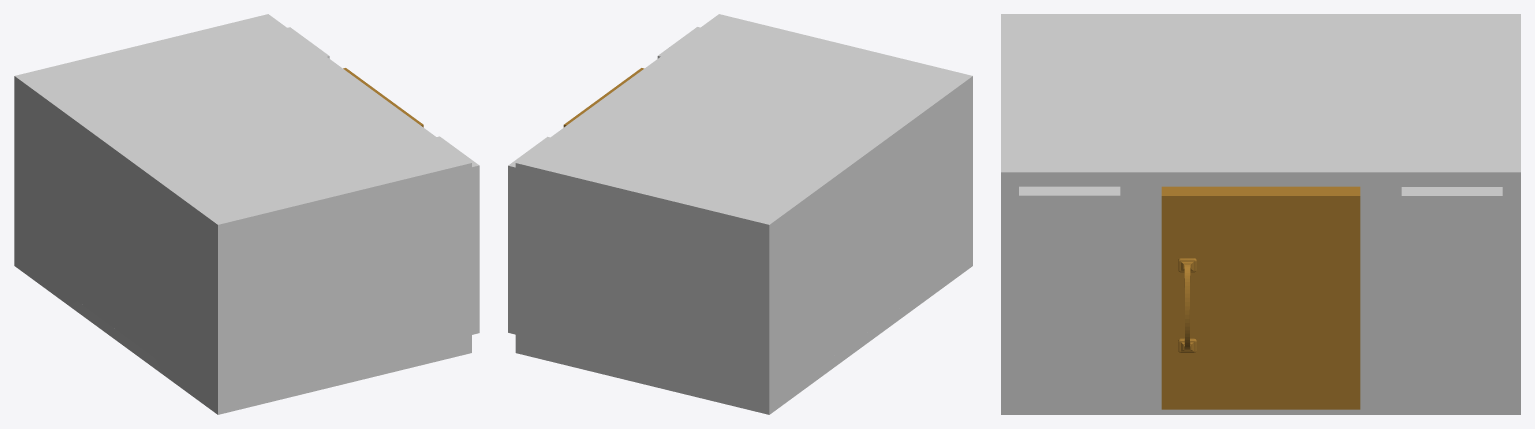
File: KitCab.fbx
The picture shows the model from 3 angles, left to right: view 1: azimuth 30°, elevation 25°; view 2: azimuth 150°, elevation 25°; view 3: azimuth 270°, elevation 25°; orthographic projection. The views are drawn at different scales.
Visible parts, largest first — view 1: Cube.007; view 2: Cube.007; view 3: Cube.007, Cube.017, Cube.030.
Boxes of the visible parts, left/top/right/bottom form: Cube.007: left=14, top=14, right=479, bottom=414; Cube.007: left=508, top=14, right=972, bottom=414; Cube.007: left=1001, top=14, right=1520, bottom=414; Cube.017: left=1161, top=186, right=1360, bottom=409; Cube.030: left=1178, top=258, right=1196, bottom=352.
Size of the model in its own units: 559 by 351 by 681.
